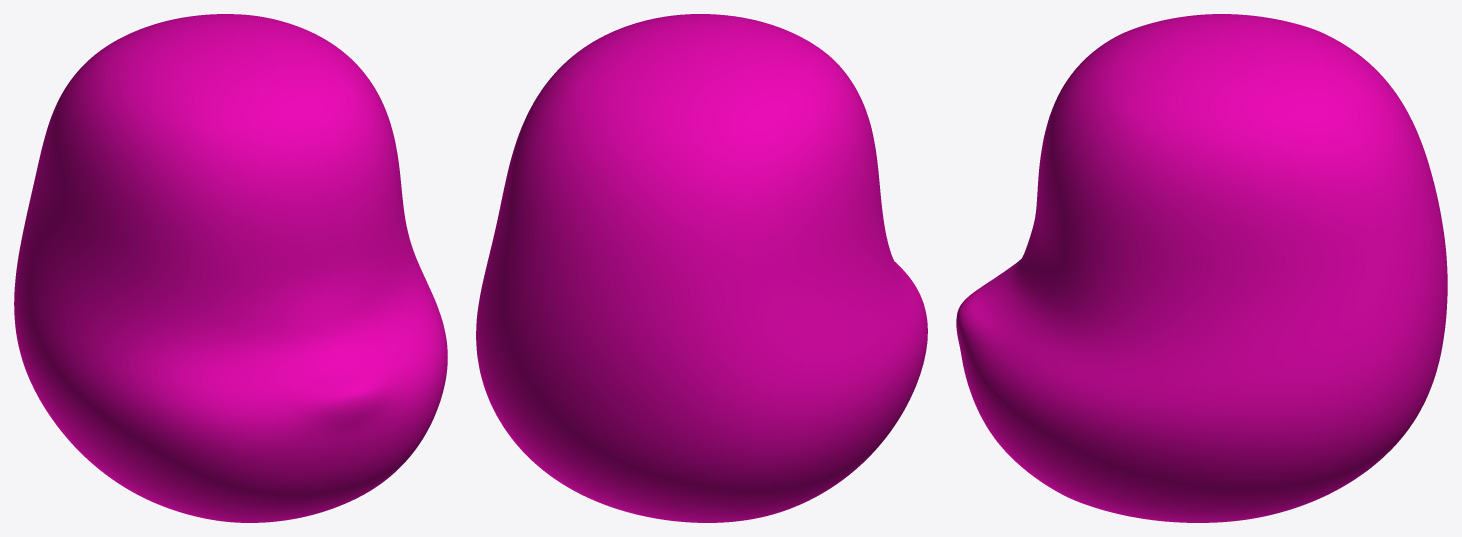
Rendered from BEARBRICK.glb.
3 renders of one model, left to right at view 1: azimuth 30°, elevation 25°; view 2: azimuth 150°, elevation 25°; view 3: azimuth 270°, elevation 25°, orthographic. The views are drawn at different scales.
Parts seen in each view (by area): view 1: Head.001; view 2: Head.001; view 3: Head.001.
Part boxes in pixels (x1=…): Head.001: x1=14, y1=14, x2=447, y2=522; Head.001: x1=476, y1=14, x2=927, y2=522; Head.001: x1=956, y1=14, x2=1447, y2=522.
Size of the model in its own units: 3.24 by 3.84 by 3.75.
